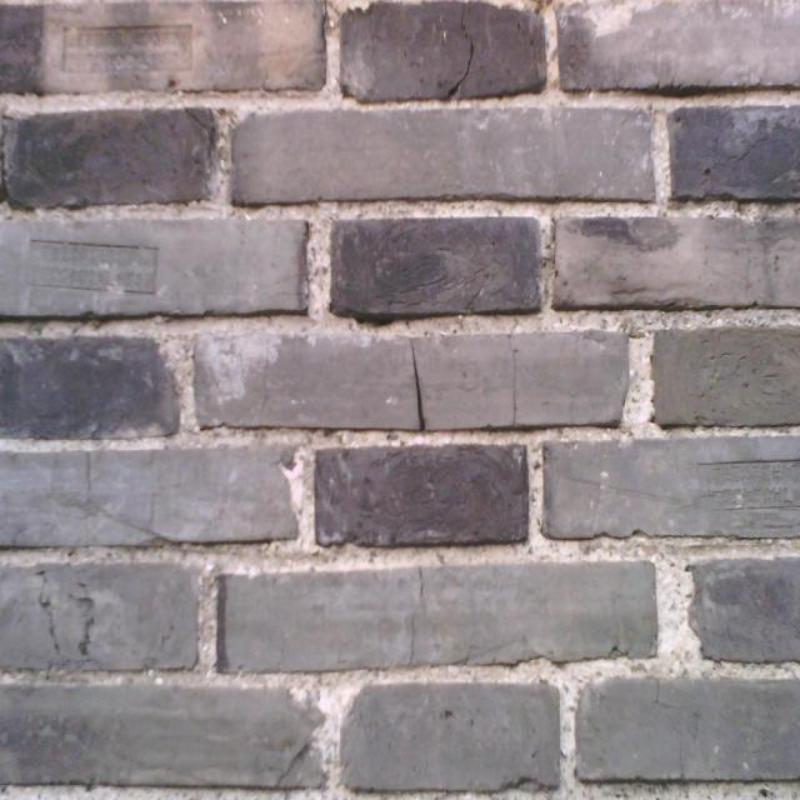crack: (446, 9, 476, 99), (276, 744, 310, 789), (412, 347, 427, 432), (509, 321, 518, 426), (406, 618, 415, 666), (418, 567, 424, 602)
